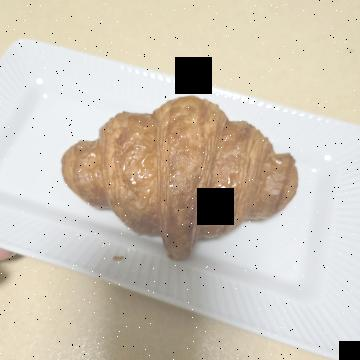croissant: (71, 50, 263, 312)
